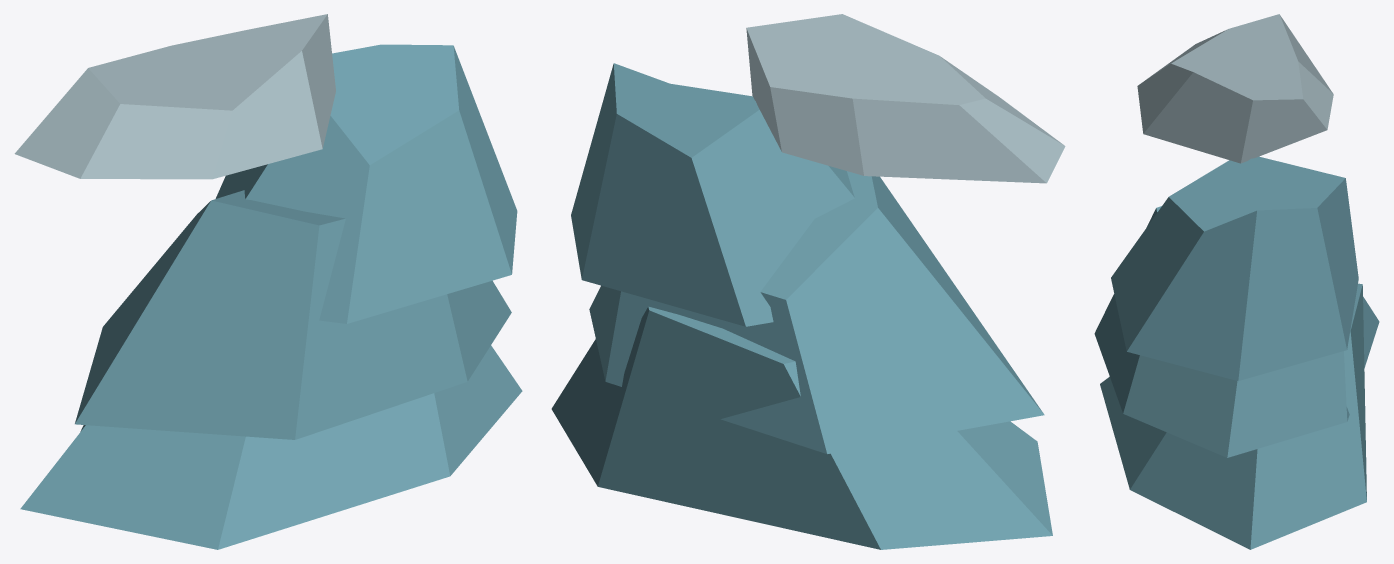
Rendered from map-boundaries-v5__frost_07.glb.
3 renders of one model, left to right at view 1: azimuth 30°, elevation 25°; view 2: azimuth 150°, elevation 25°; view 3: azimuth 270°, elevation 25°, orthographic. The views are drawn at different scales.
Visible parts, largest first — view 1: frost_07; view 2: frost_07; view 3: frost_07.
Boxes of the visible parts, x1=… form: frost_07: x1=14, y1=14, x2=522, y2=549; frost_07: x1=551, y1=14, x2=1065, y2=549; frost_07: x1=1094, y1=14, x2=1379, y2=549.
Bounding box in the file's own units: 1.22 × 0.9961 × 0.6949.
